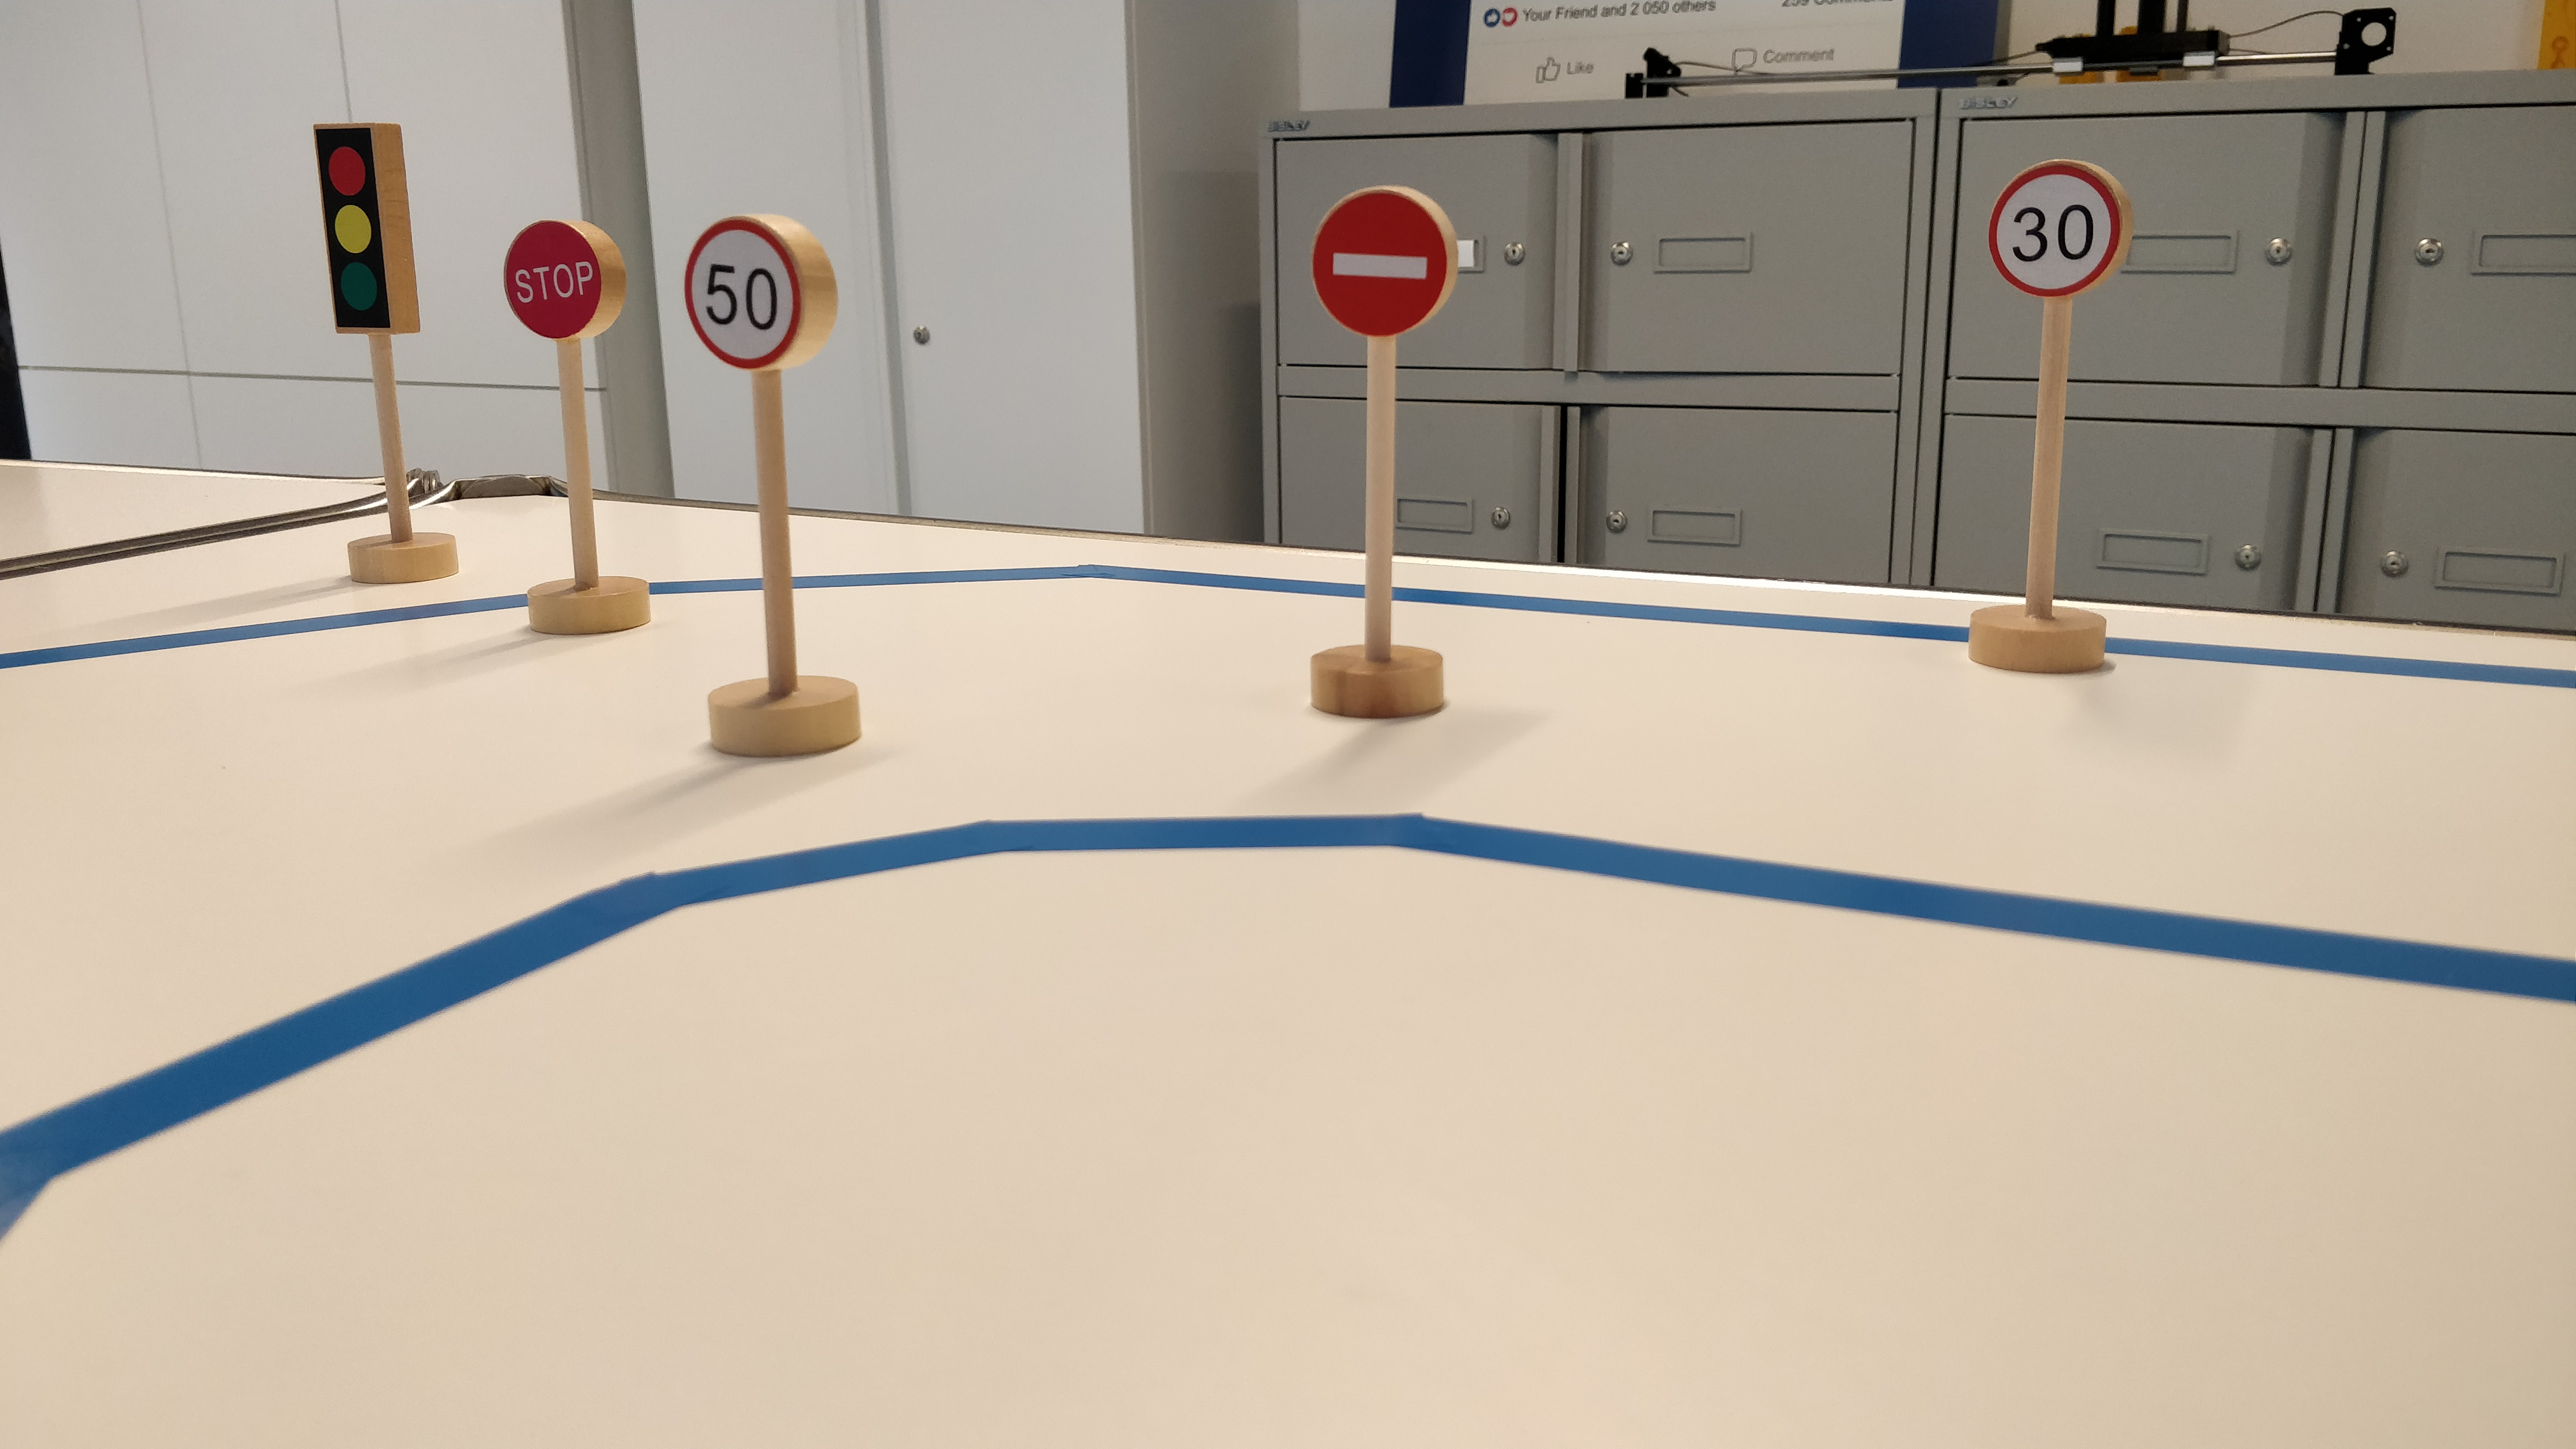Prohibition Sign: (1307, 182, 1459, 339)
Speed Limit 30: (1984, 157, 2137, 302)
Speed Limit 50: (680, 209, 841, 376)
Stop Sign: (499, 215, 636, 349)
Traffic Light: (309, 116, 429, 340)
